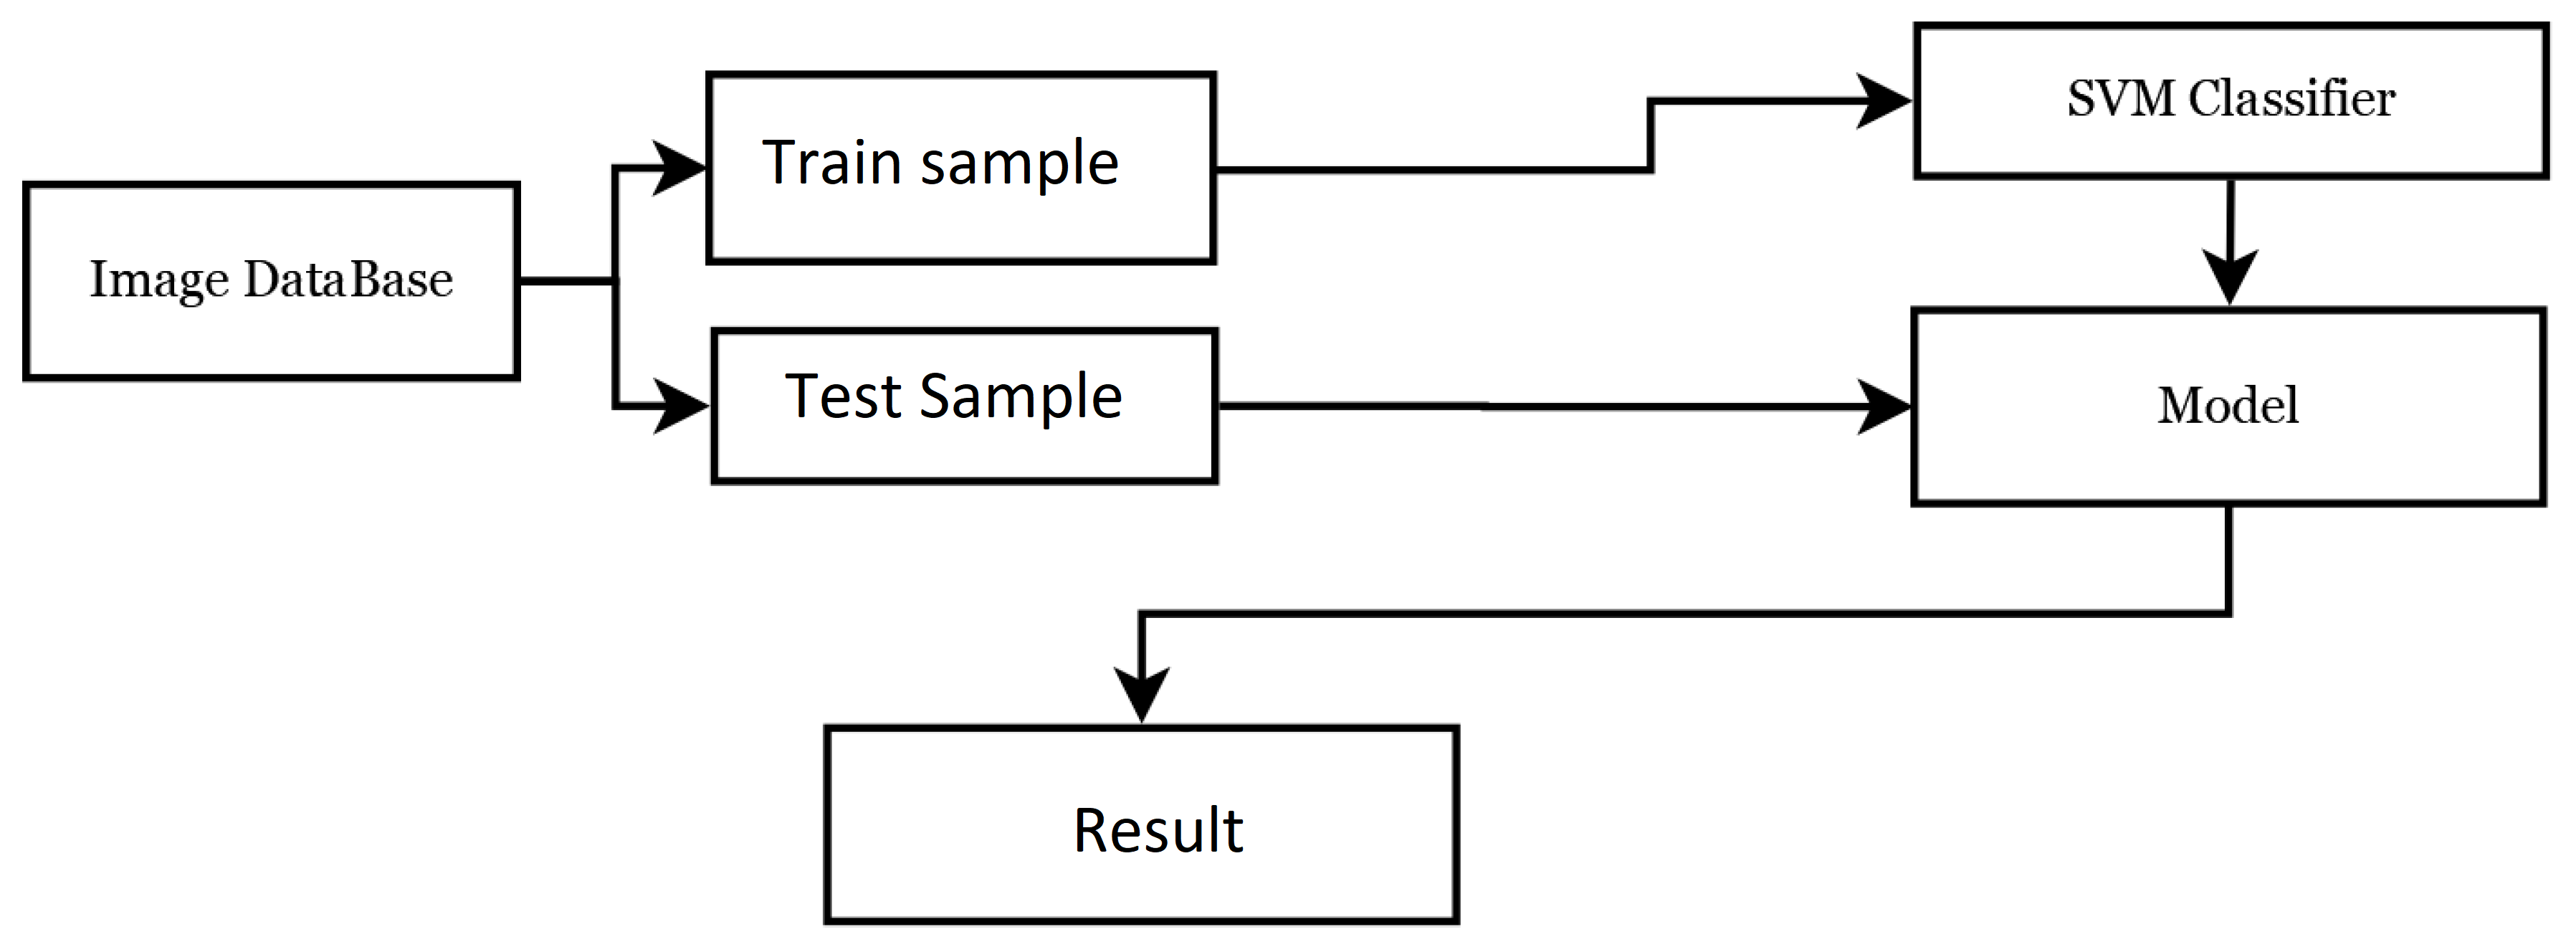arrow: (1109, 498, 2241, 723), (1212, 67, 1916, 189), (1204, 378, 1916, 434), (506, 273, 713, 434), (518, 133, 705, 294), (2195, 181, 2267, 312)
process: (1906, 299, 2558, 520), (813, 717, 1470, 934), (1901, 20, 2561, 194), (695, 61, 1227, 273), (13, 174, 529, 393), (703, 322, 1227, 492)
text: (756, 133, 1125, 202), (782, 365, 1122, 434), (81, 255, 465, 312), (2063, 72, 2402, 120), (1066, 797, 1249, 860), (2154, 378, 2315, 426)
